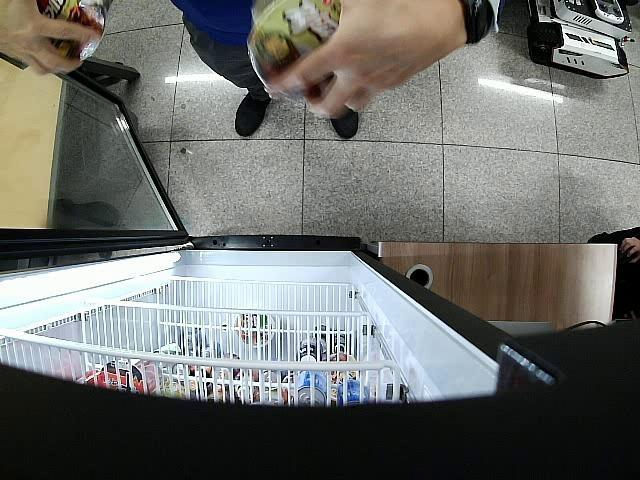03_chapagetti_L: (247, 0, 341, 84), (37, 0, 108, 61)
